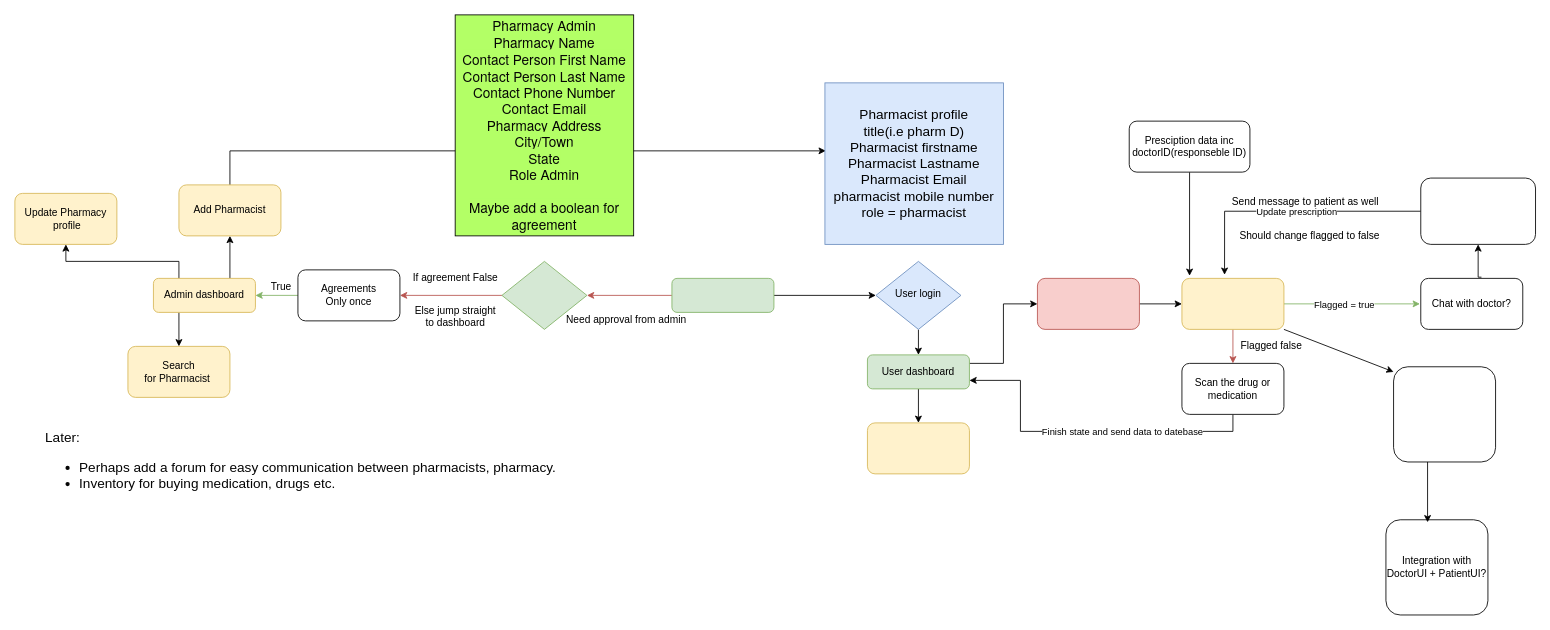
Some shapes in this 1550 by 630 pixel diagram are drawn without their labels. The shapes that lost their labels are listed below. From the top down, each one's centre as x and y in pixels, then its label:
At (1478,210): "Standby doctor Component? Repo? Integrated into Doctor UI?".
At (544,295): "Admin login".
At (722,295): "Login page".
At (1088,303): "Scan QR code".
At (1232,303): "PRESCRIPTION details - national ID number?".
At (1444,414): "Next step? Prescription object with boolean that it has been delivered?".
At (918,448): "Update password".
